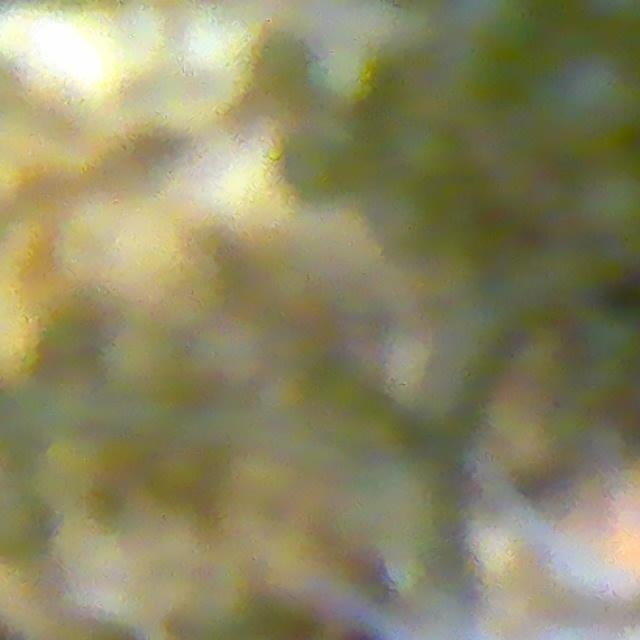SeaGrape: (529, 40, 640, 154)
